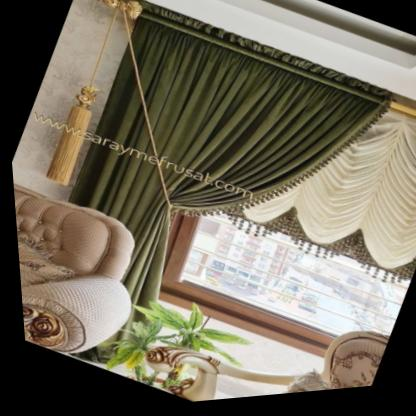Curtains: (16, 0, 416, 399)
